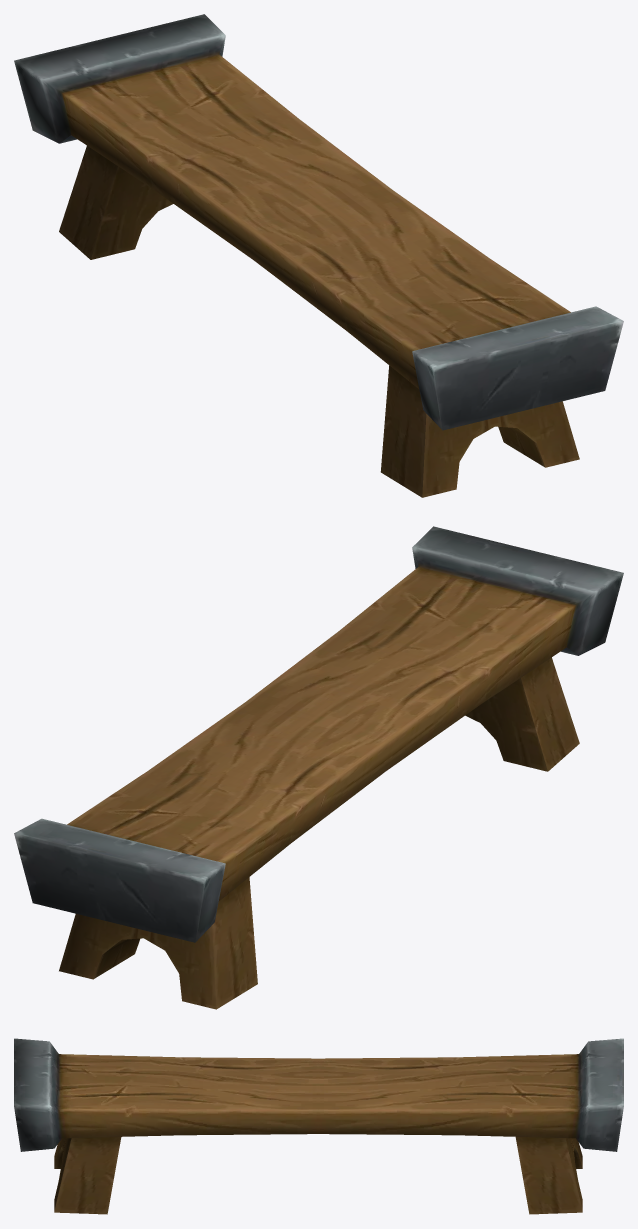
The picture shows the model from 3 angles, top to bottom: view 1: azimuth 30°, elevation 25°; view 2: azimuth 150°, elevation 25°; view 3: azimuth 270°, elevation 25°; orthographic projection. The views are drawn at different scales.
Bounding box in the file's own units: 0.7152 × 0.5549 × 2.73.
Materials: 1 (1 with a texture image).
